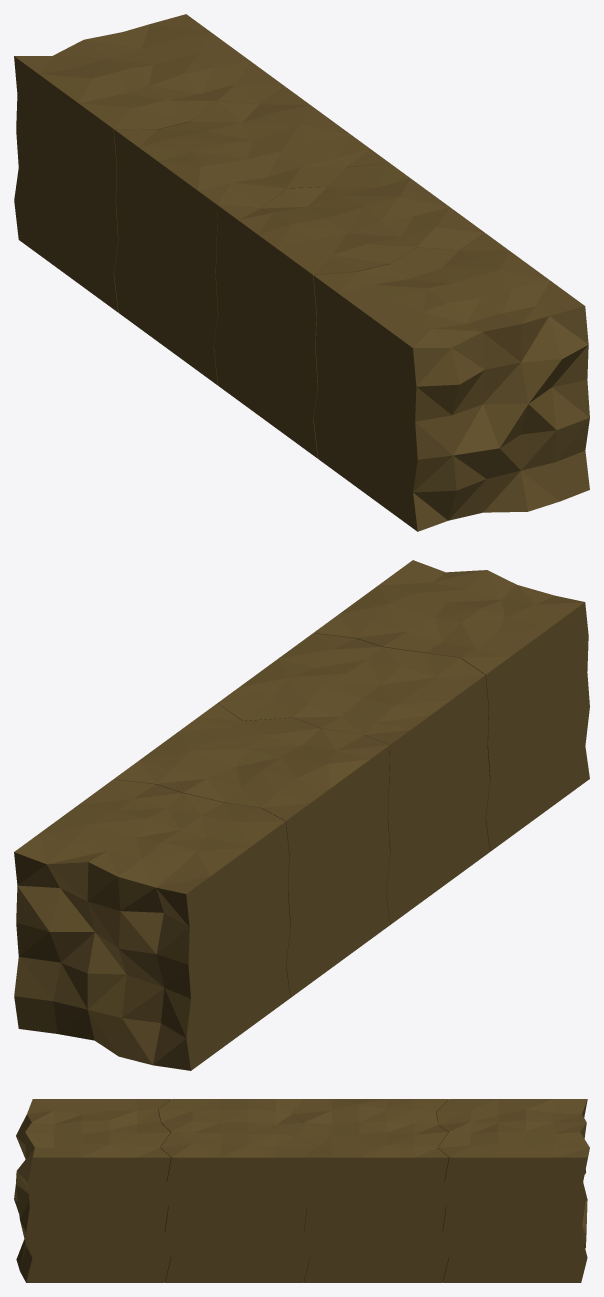
Rendered from SM_path_2_alt_DE.fbx.
The picture shows the model from 3 angles, top to bottom: view 1: azimuth 30°, elevation 25°; view 2: azimuth 150°, elevation 25°; view 3: azimuth 270°, elevation 25°; orthographic projection. The views are drawn at different scales.
Visible parts, largest first — view 1: SM_path2_1_alt_DE, SM_path2_2_alt_DE, SM_path2_rightmid_alt_DE, SM_path2_leftmid_alt_DE; view 2: SM_path2_2_alt_DE, SM_path2_leftmid_alt_DE, SM_path2_rightmid_alt_DE, SM_path2_1_alt_DE; view 3: SM_path2_1_alt_DE, SM_path2_2_alt_DE, SM_path2_rightmid_alt_DE, SM_path2_leftmid_alt_DE.
Part boxes in pixels (left/top/right/bottom): SM_path2_1_alt_DE: left=313, top=233, right=589, bottom=531; SM_path2_2_alt_DE: left=14, top=14, right=285, bottom=312; SM_path2_rightmid_alt_DE: left=114, top=87, right=389, bottom=385; SM_path2_leftmid_alt_DE: left=213, top=163, right=485, bottom=458; SM_path2_2_alt_DE: left=14, top=779, right=290, bottom=1070; SM_path2_leftmid_alt_DE: left=218, top=633, right=489, bottom=924; SM_path2_rightmid_alt_DE: left=114, top=703, right=390, bottom=997; SM_path2_1_alt_DE: left=314, top=560, right=589, bottom=851; SM_path2_1_alt_DE: left=14, top=1099, right=170, bottom=1282; SM_path2_2_alt_DE: left=436, top=1099, right=589, bottom=1282; SM_path2_rightmid_alt_DE: left=292, top=1099, right=448, bottom=1282; SM_path2_leftmid_alt_DE: left=158, top=1099, right=316, bottom=1282.
Size of the model in its own units: 120 by 500 by 123.
